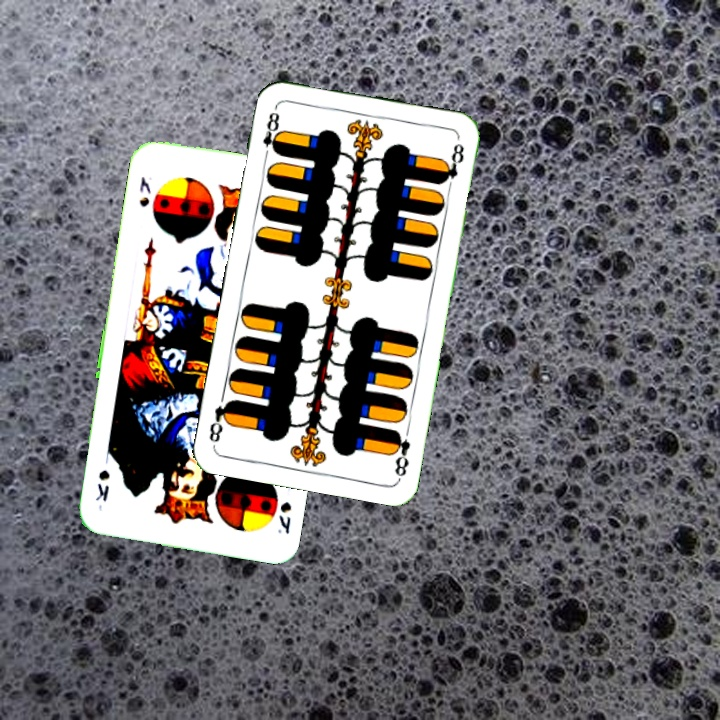E8: (259, 104, 284, 162), (388, 426, 413, 481)
SK: (273, 497, 294, 537), (135, 173, 155, 210)
